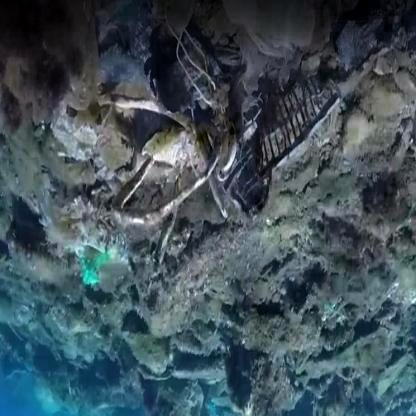misc: (209, 35, 347, 192)
